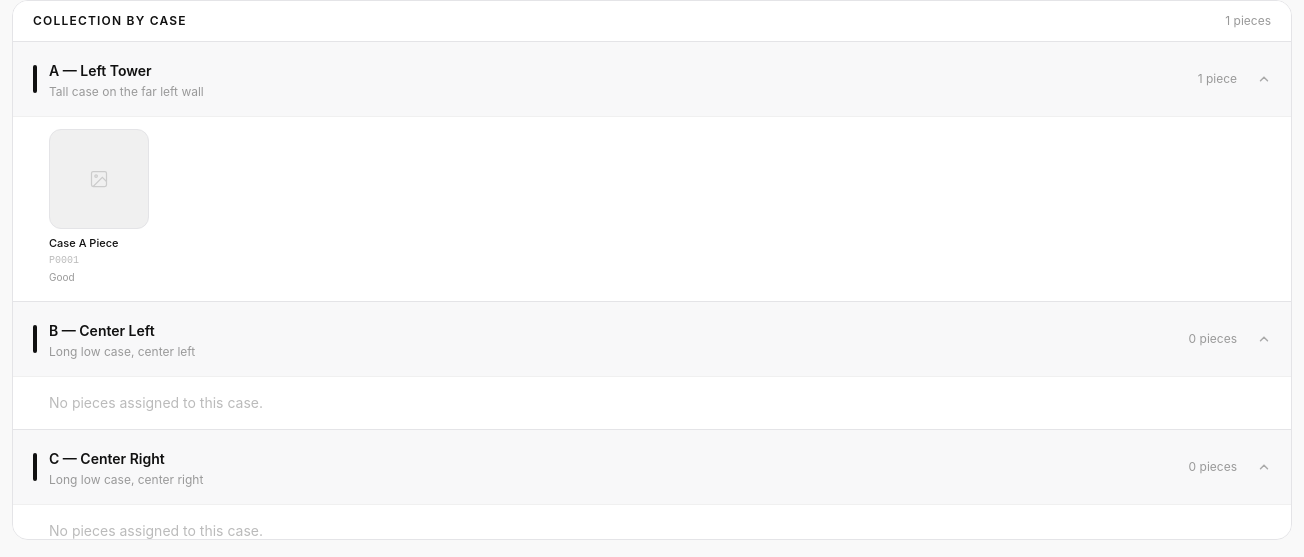
InventoryCase › collapses and re-expands a case group on click
Click the button "A — Left Tower" at (100, 70), box [13,42,1291,116]
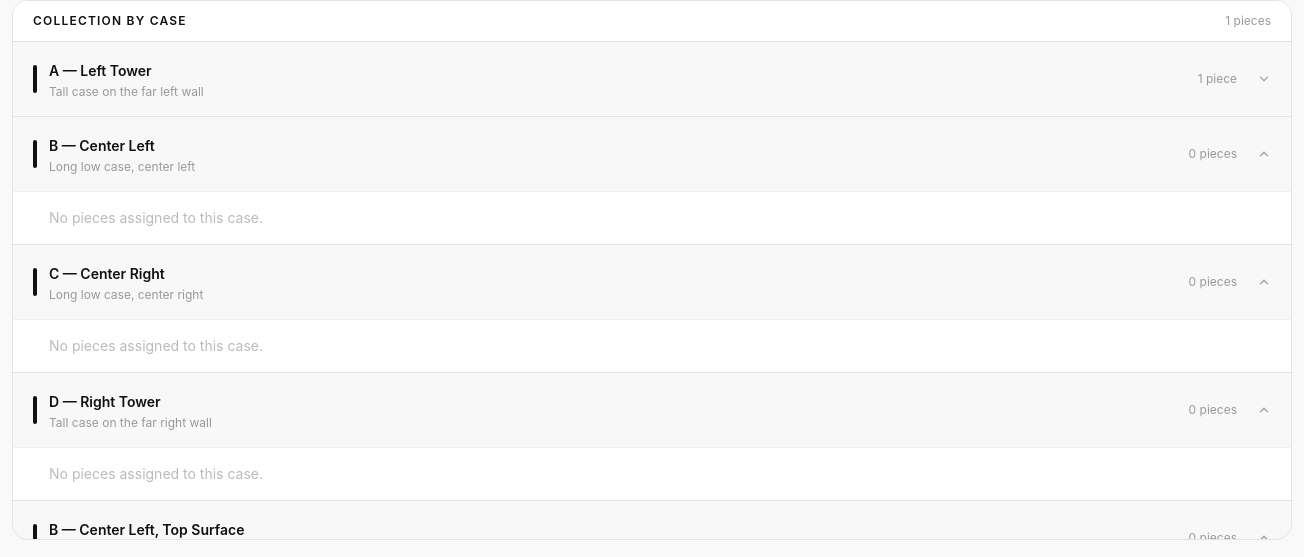
Check: the button "Case A Piece" is gone
Click the button "A — Left Tower" at (100, 70), box [13,42,1291,116]
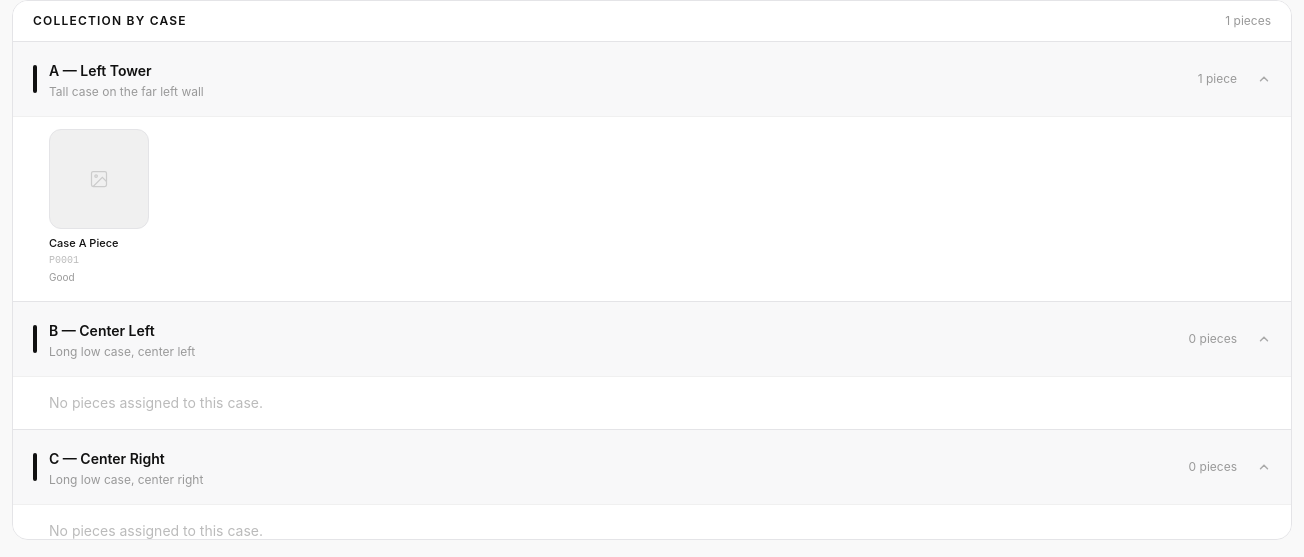
Check: the text "Case A Piece" is shown, box [49,236,118,250]
